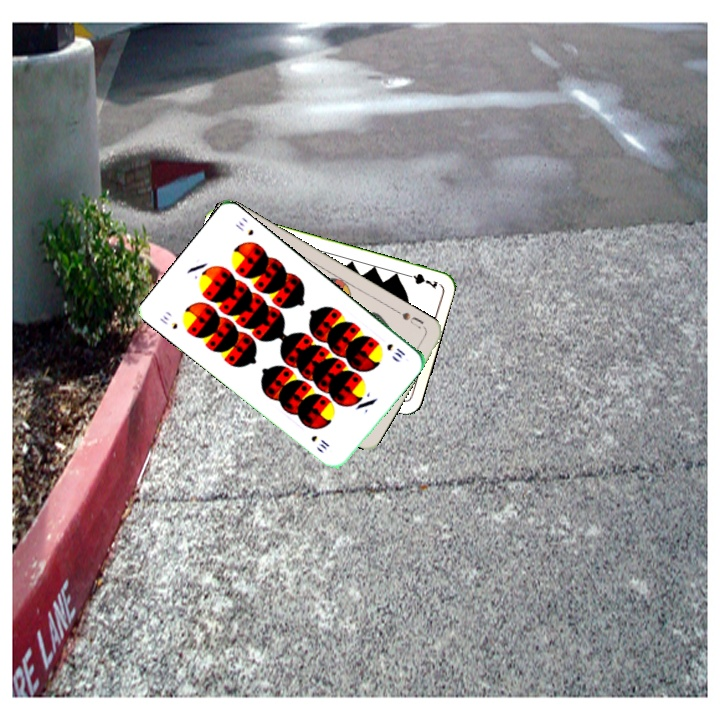G7: (400, 269, 440, 291)
S10: (382, 340, 408, 361), (155, 311, 180, 332)
SU: (391, 306, 426, 331)
